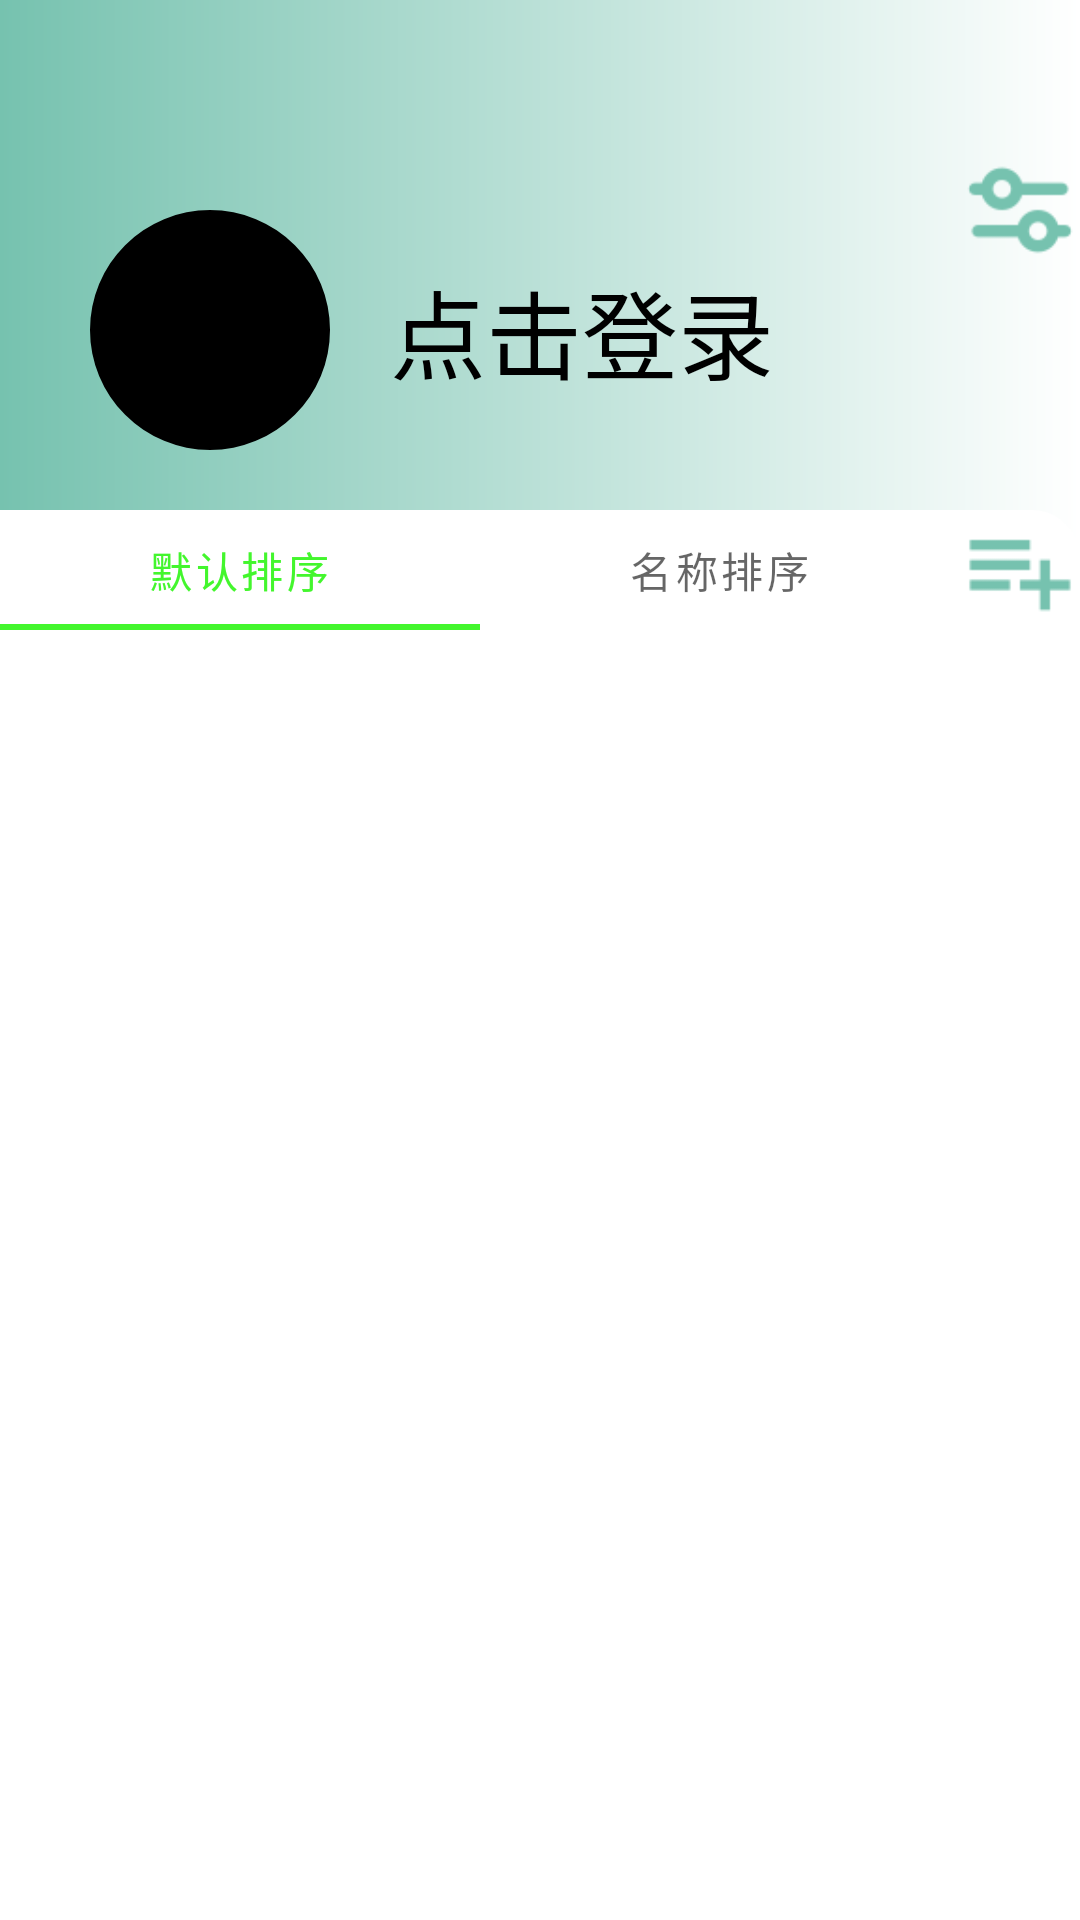

Named icons in this screenshot (1080px×1920px) and their centers, (x,y):
add playlist: (1020,575)
setting: (1019,210)
